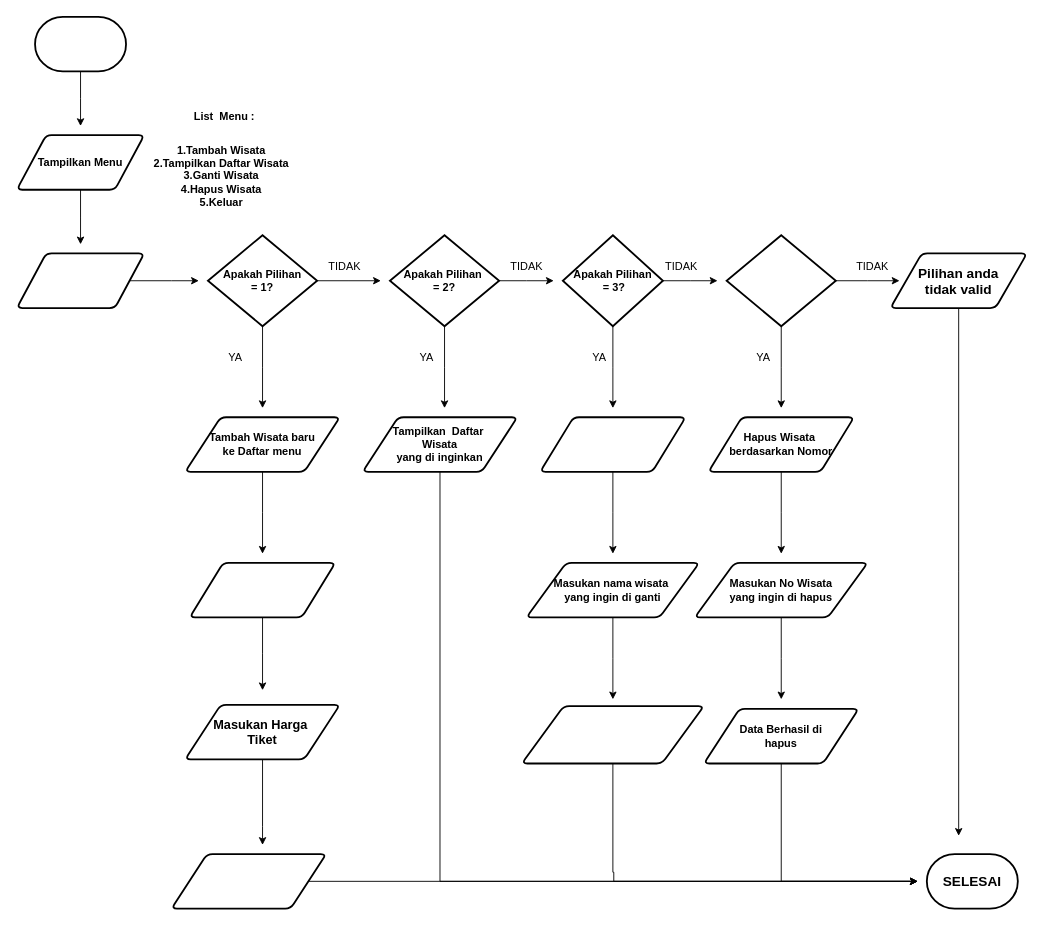
The diagram is 1043 pixels wide and 925 high, and some of its shapes have lost their labels. Here are the shapes that lost their labels. From the top down, the centre of each, then its label:
(80,43): MULAI
(80,280): Input Pilihan User
(780,280): Apakah Pilihan = 4?
(612,444): Masukan No Wisata yang ingin di ganti
(262,589): Masukan Lokasi
(612,734): Data berhasil di ganti
(248,881): Wisata Berhasil Di Tambahkan
